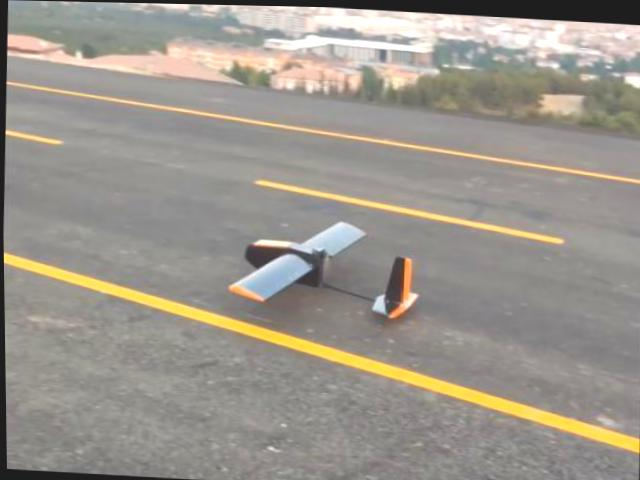uav: (221, 202, 429, 334)
